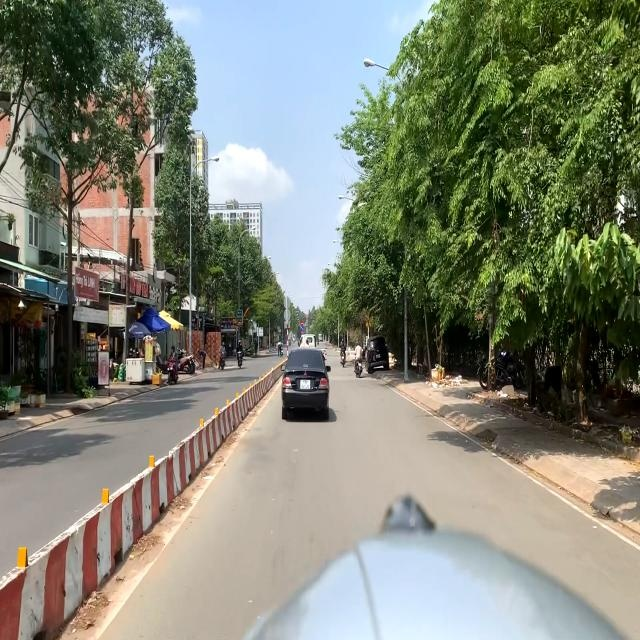bien_hieu_lenh: (300, 326, 304, 331), (300, 321, 304, 326)
